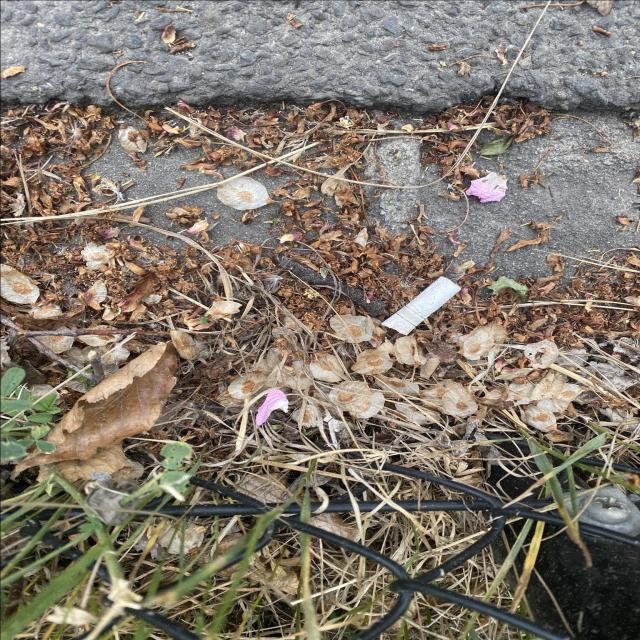other waste: (380, 275, 461, 336)
